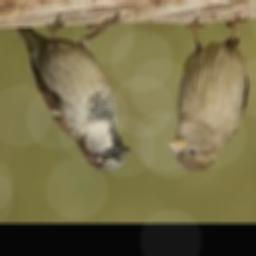Sparrow: (13, 14, 130, 172), (165, 13, 248, 171)
